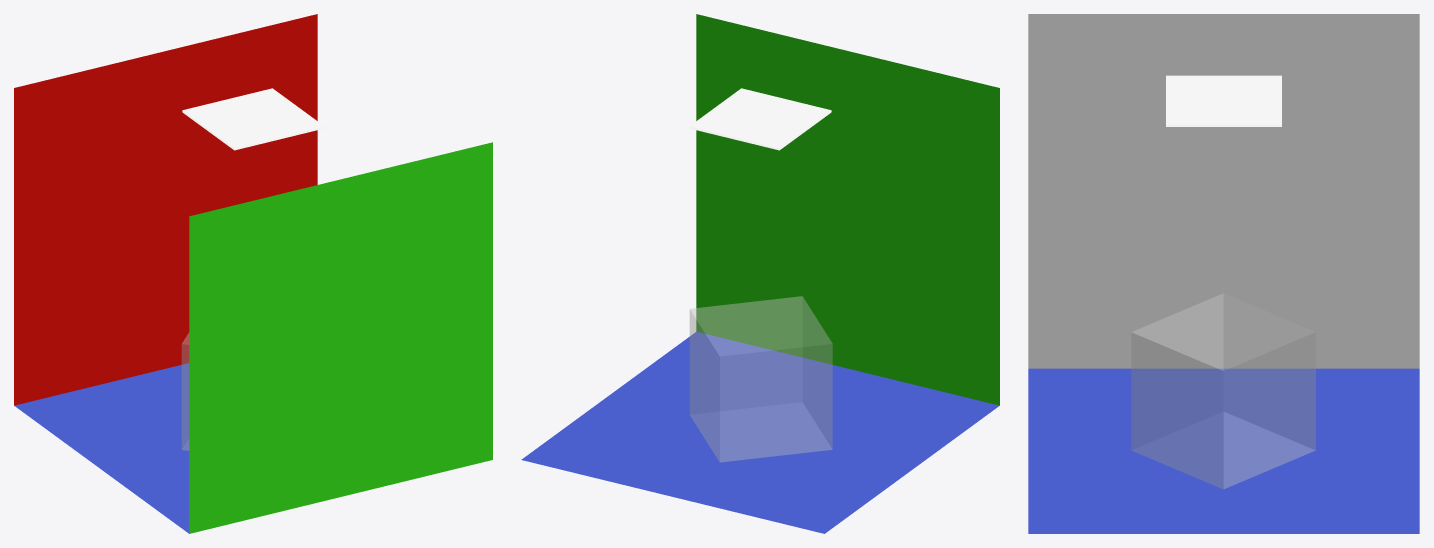
File: test glass.gltf
3 views of the same model, side by side, from view 1: azimuth 30°, elevation 25°; view 2: azimuth 150°, elevation 25°; view 3: azimuth 270°, elevation 25° (orthographic). The views are drawn at different scales.
Visible parts, largest first — view 1: Plane.001, Plane, Plane.002, Plane.006, Cube; view 2: Plane.001, Plane.002, Cube, Plane.006; view 3: Plane.005, Plane.002, Cube, Plane.006.
Part boxes in pixels (left/top/right/bottom): Plane.001: left=189, top=142, right=492, bottom=533; Plane: left=14, top=14, right=317, bottom=405; Plane.002: left=14, top=363, right=189, bottom=533; Plane.006: left=182, top=88, right=324, bottom=150; Cube: left=182, top=333, right=188, bottom=450; Plane.001: left=696, top=14, right=999, bottom=405; Plane.002: left=521, top=331, right=999, bottom=533; Cube: left=690, top=296, right=832, bottom=462; Plane.006: left=689, top=88, right=831, bottom=150; Plane.005: left=1028, top=14, right=1419, bottom=368; Plane.002: left=1028, top=368, right=1419, bottom=533; Cube: left=1131, top=293, right=1315, bottom=488; Plane.006: left=1166, top=75, right=1281, bottom=126.
Bounding box in the file's own units: 7.17 × 7.17 × 7.17.
